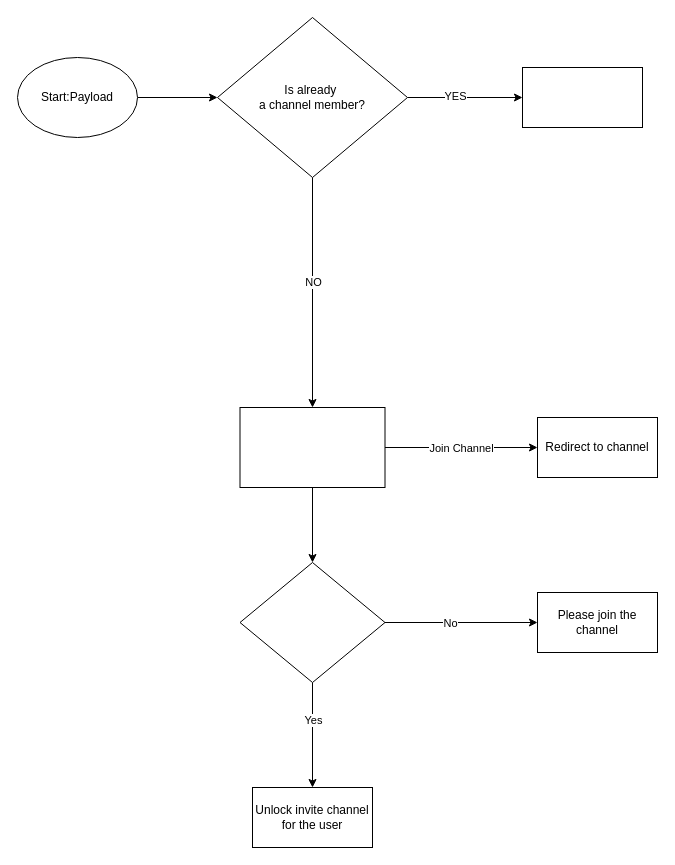
This 675x865 diagram has some shape labels left out. The shapes that lost their labels are listed below. From the top down, each one's centre as x and y in pixels, then its label:
At pixel 312 447: "Show [Join Channel] [Check Subscription]".
At pixel 312 622: "JOINED?".
